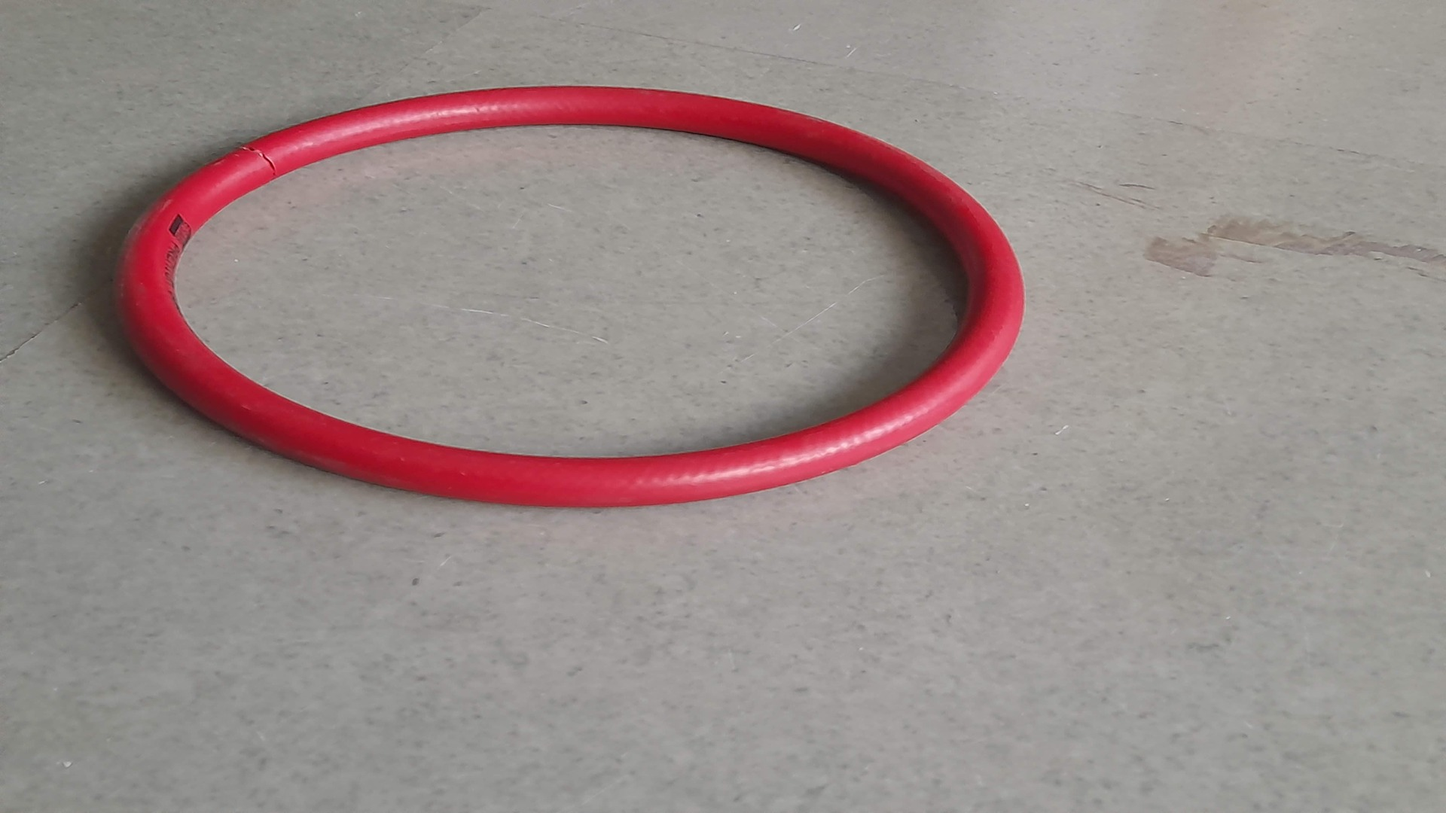Red ring: (125, 84, 1026, 504)
